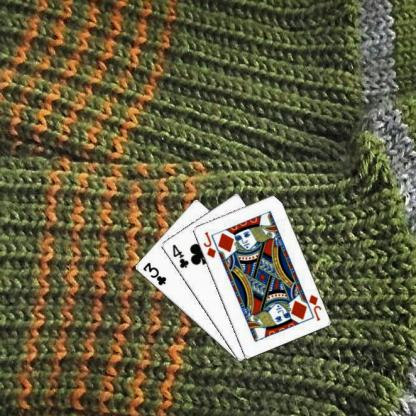3C: (140, 260, 167, 286)
4C: (170, 241, 190, 270)
JD: (200, 229, 217, 259), (306, 292, 322, 322)
